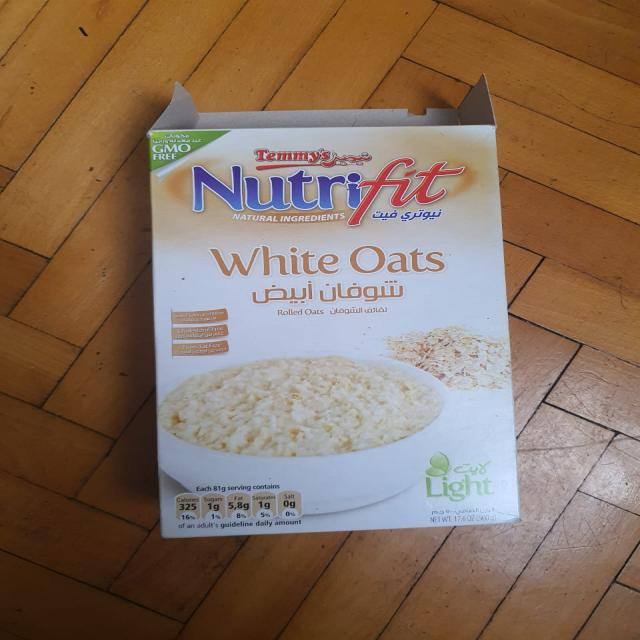cardboard: (125, 75, 519, 541)
